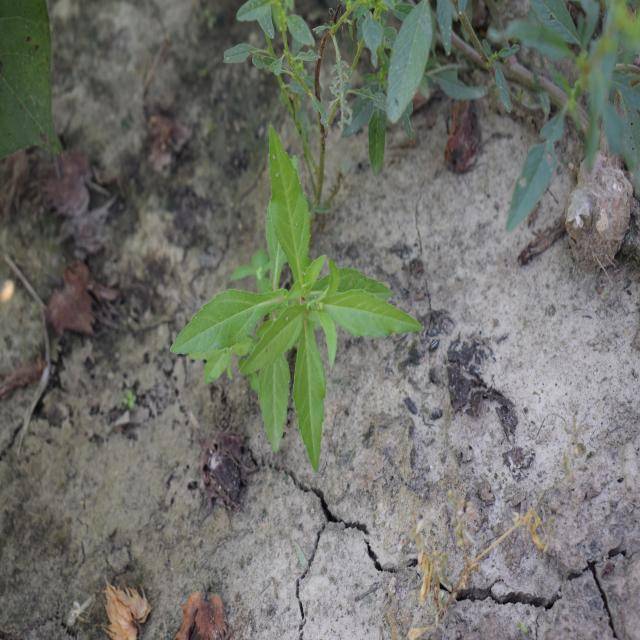Eclipta: (168, 123, 424, 476)
Waterhemp: (219, 0, 638, 233)
